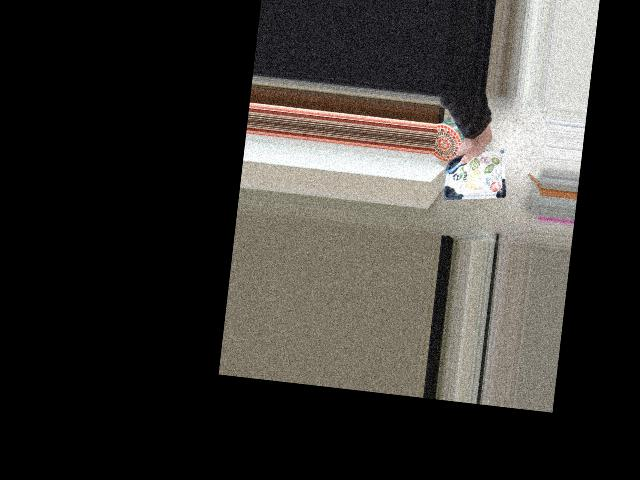cheese: (455, 135, 510, 190)
